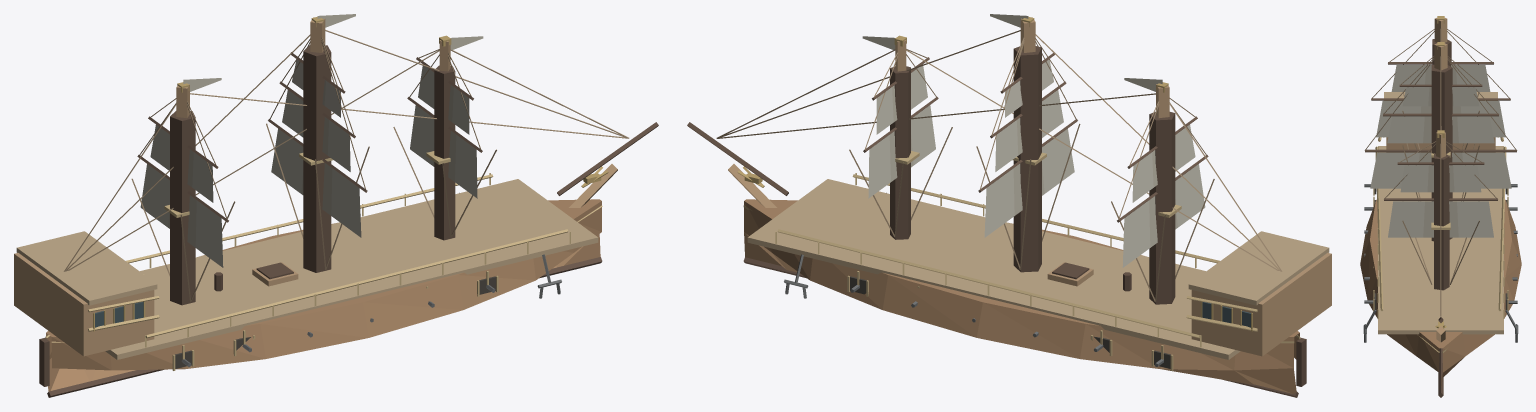
The model's file is frigate.glb.
3 views of the same model, side by side, from view 1: azimuth 30°, elevation 25°; view 2: azimuth 150°, elevation 25°; view 3: azimuth 270°, elevation 25° (orthographic). The views are drawn at different scales.
Visible parts, largest first — view 1: frigate; view 2: frigate; view 3: frigate.
Boxes of the visible parts, x1=… form: frigate: x1=14, y1=14, x2=658, y2=397; frigate: x1=687, y1=14, x2=1331, y2=397; frigate: x1=1360, y1=16, x2=1521, y2=397.
Bounding box in the file's own units: 43.56 × 21.37 × 12.6.
